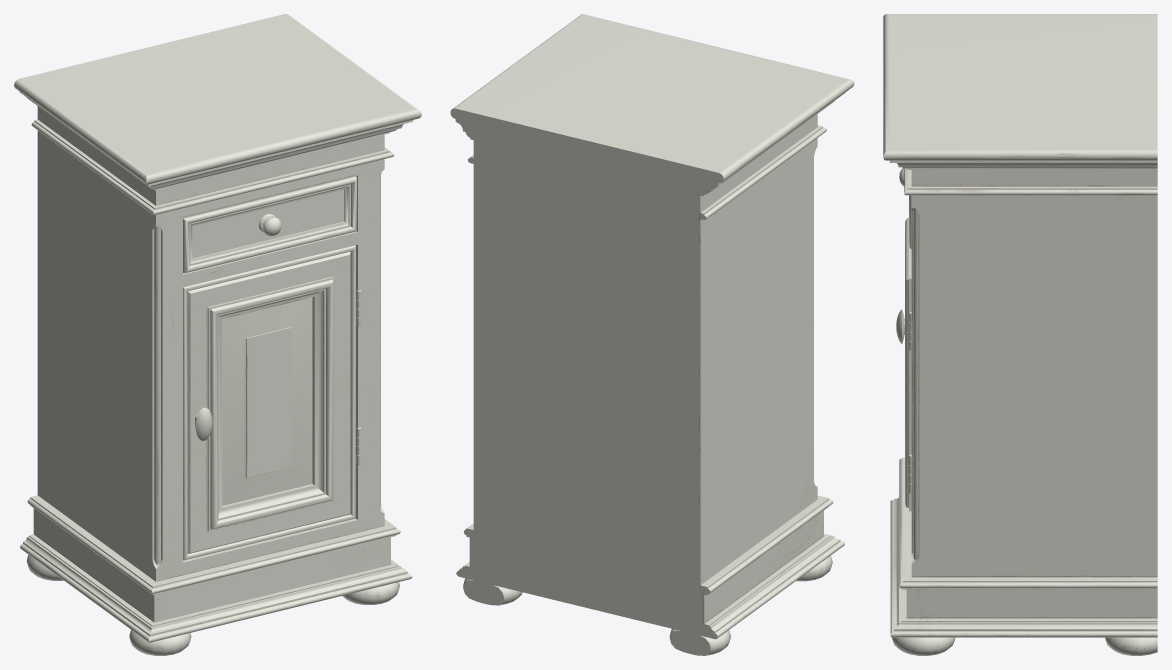
The model's file is example135.gltf.
3 views of the same model, side by side, from view 1: azimuth 30°, elevation 25°; view 2: azimuth 150°, elevation 25°; view 3: azimuth 270°, elevation 25° (orthographic). The views are drawn at different scales.
Bounding box in the file's own units: 41 × 70 × 34.
1 material, 1 textured.
